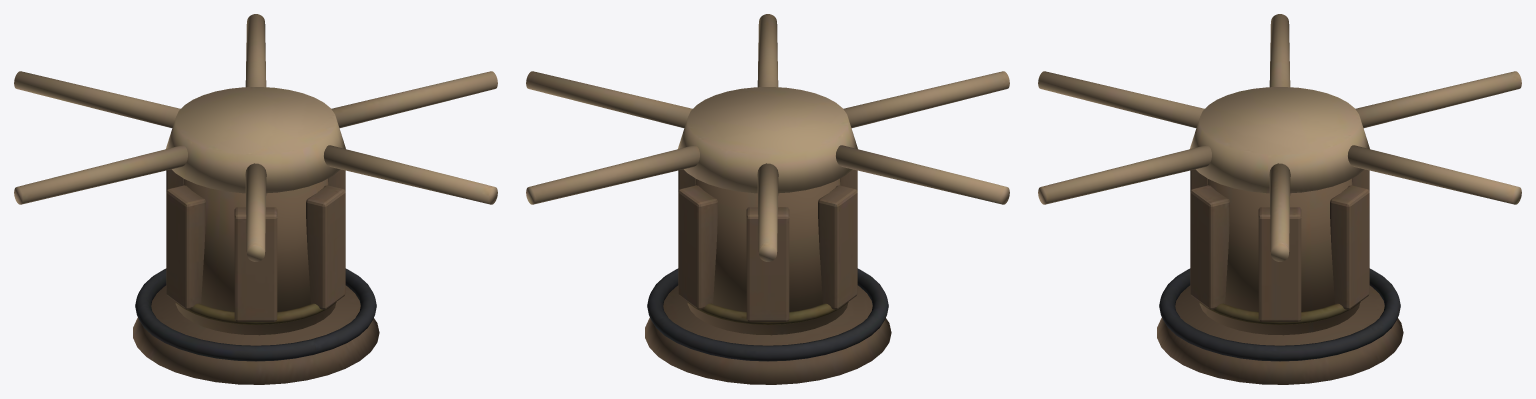
Rendered from capstan.glb.
The picture shows the model from 3 angles, left to right: view 1: azimuth 30°, elevation 25°; view 2: azimuth 150°, elevation 25°; view 3: azimuth 270°, elevation 25°; orthographic projection.
Visible parts, largest first — view 1: drum, capstan_body; view 2: drum, capstan_body; view 3: drum, capstan_body.
Part boxes in pixels (x1,y1,x2,y2): drum: (14,14,497,335); capstan_body: (133,268,379,384); drum: (526,14,1009,335); capstan_body: (645,268,891,384); drum: (1038,14,1521,335); capstan_body: (1157,268,1403,384).
Size of the model in its own units: 2.04 by 0.87 by 1.8.
1 material, 1 textured.
